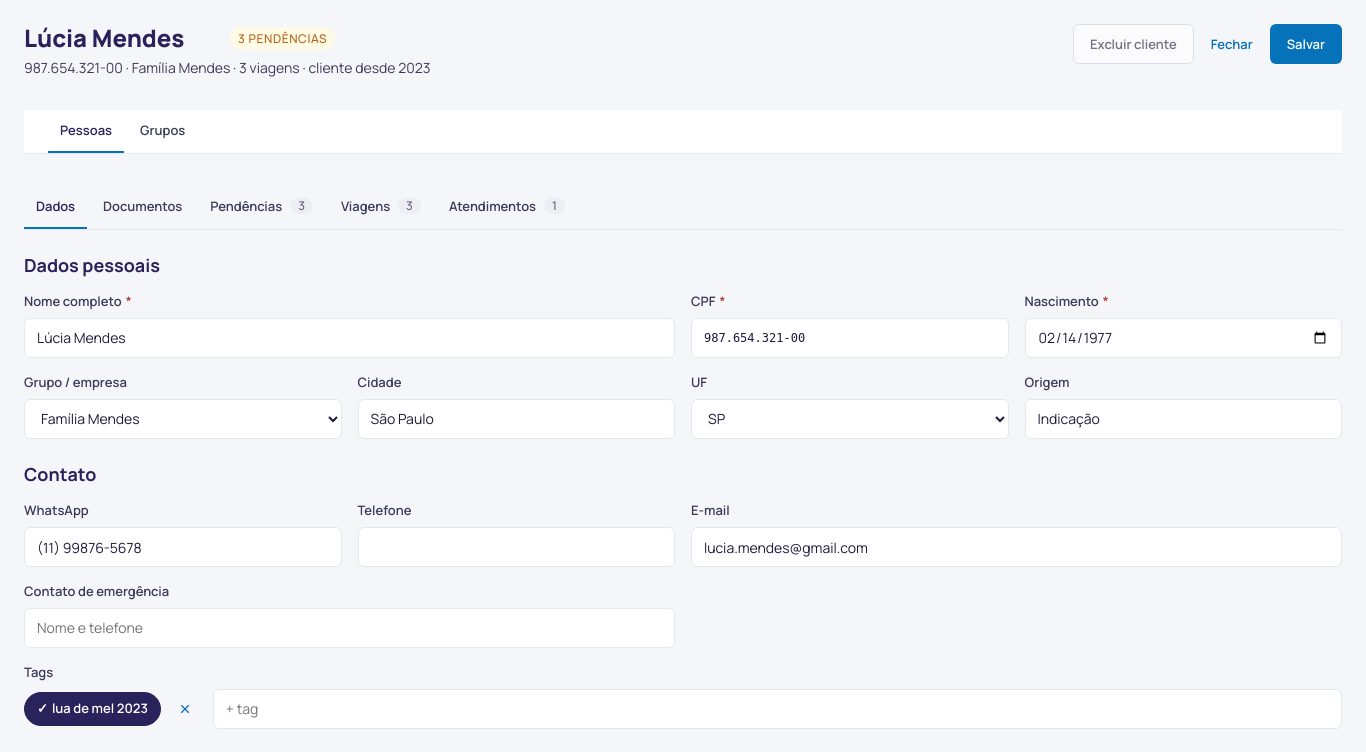
Test case: editar um campo marca alterações não salvas e Ctrl+S salva com a versão
Replace the text in the field showing "São Paulo" with "Campinas". click: (516, 419)
box: [358,399,675,439]
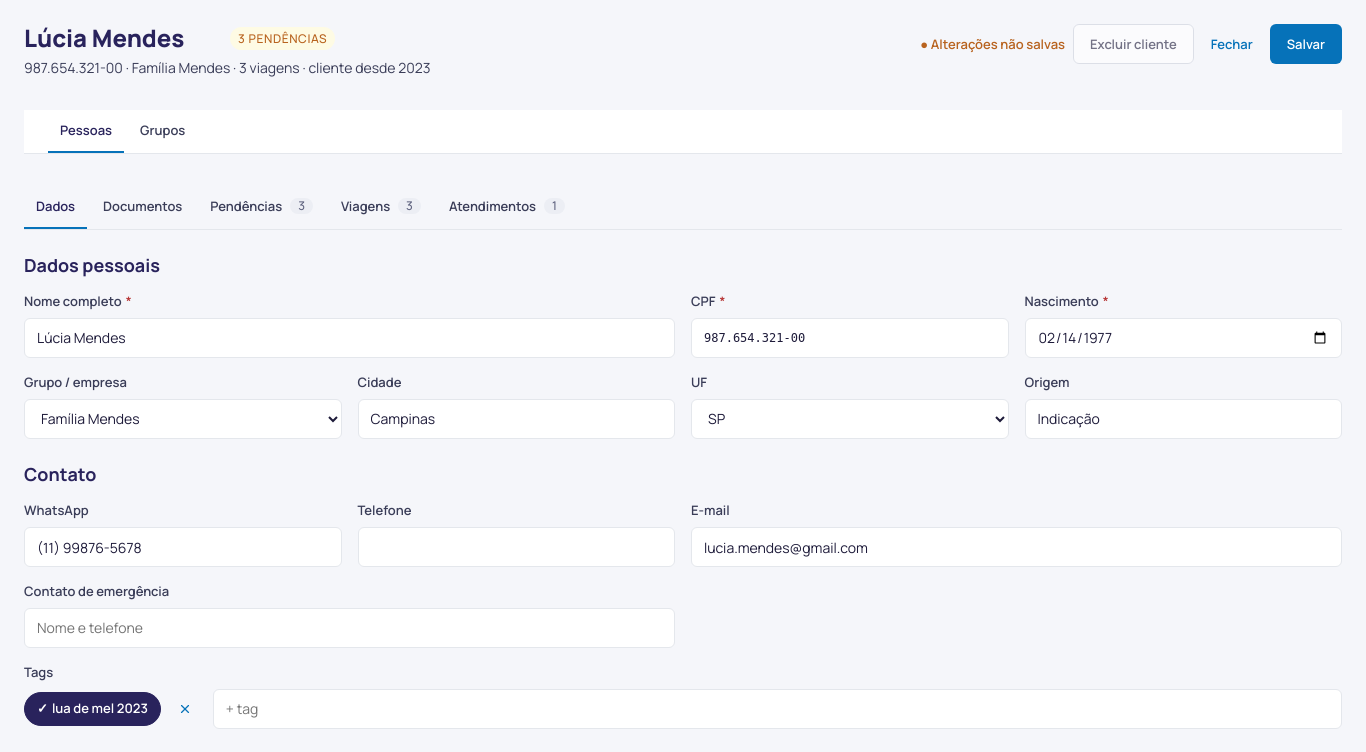
Expected: the text "● Alterações não salvas" is shown, [920,36,1065,52]
Press s
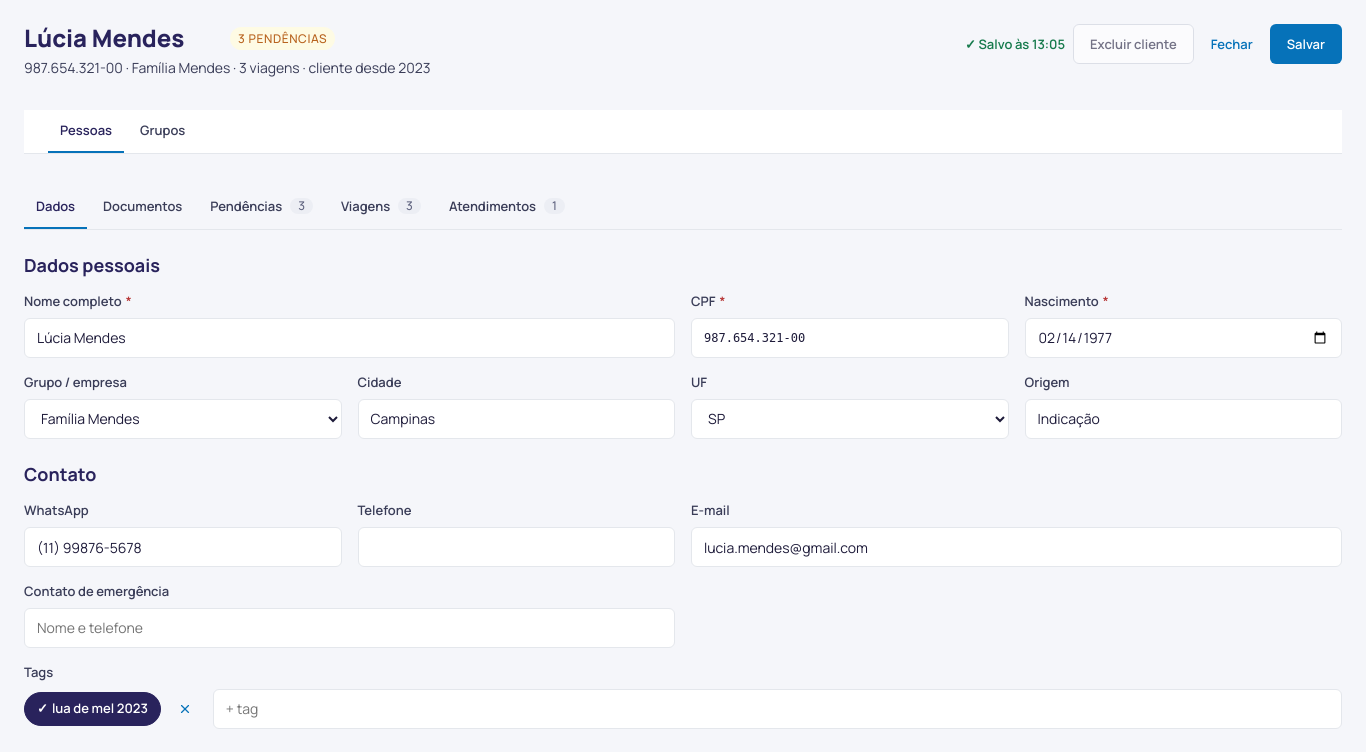
Expected: the text "✓ Salvo às 13:05" is shown, [965,36,1065,52]
